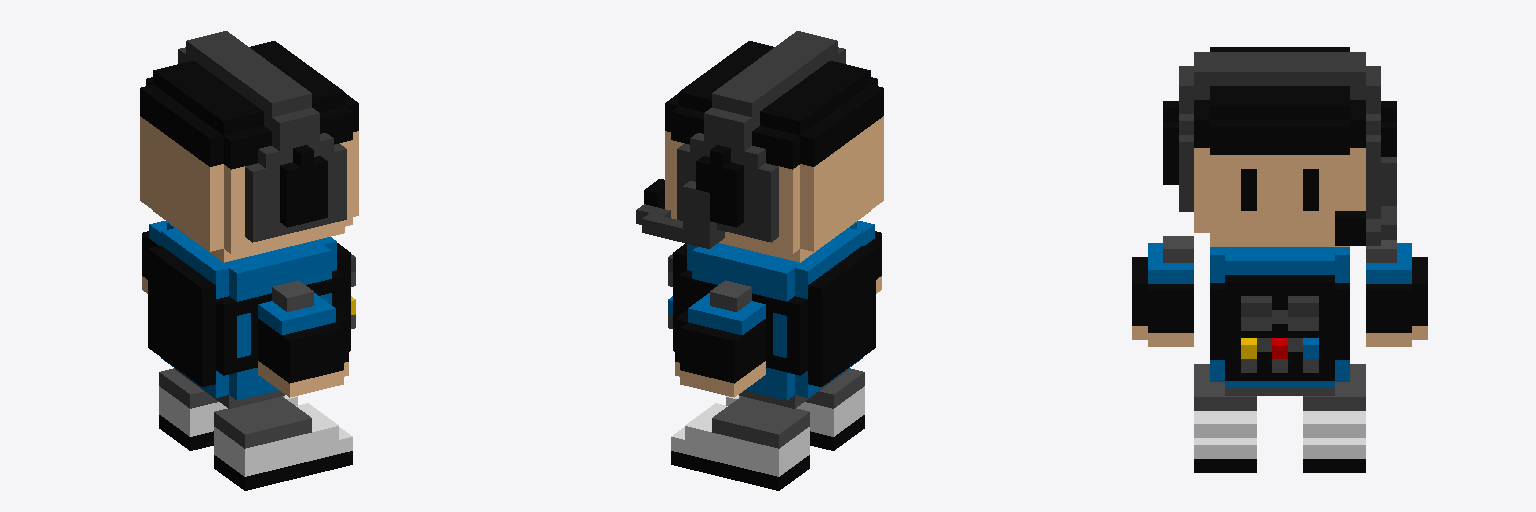
The picture shows the model from 3 angles: view 1: azimuth 30°, elevation 25°; view 2: azimuth 150°, elevation 25°; view 3: azimuth 270°, elevation 25°; orthographic projection.
Parts seen in each view (by area): view 1: object 1; view 2: object 1; view 3: object 1.
Boxes of the visible parts, x1=… form: object 1: x1=140, y1=31, x2=358, y2=490; object 1: x1=636, y1=31, x2=883, y2=490; object 1: x1=1132, y1=47, x2=1427, y2=472.
Bounding box in the file's own units: 1.2 × 2.7 × 1.9.
1 materials, 1 textured.